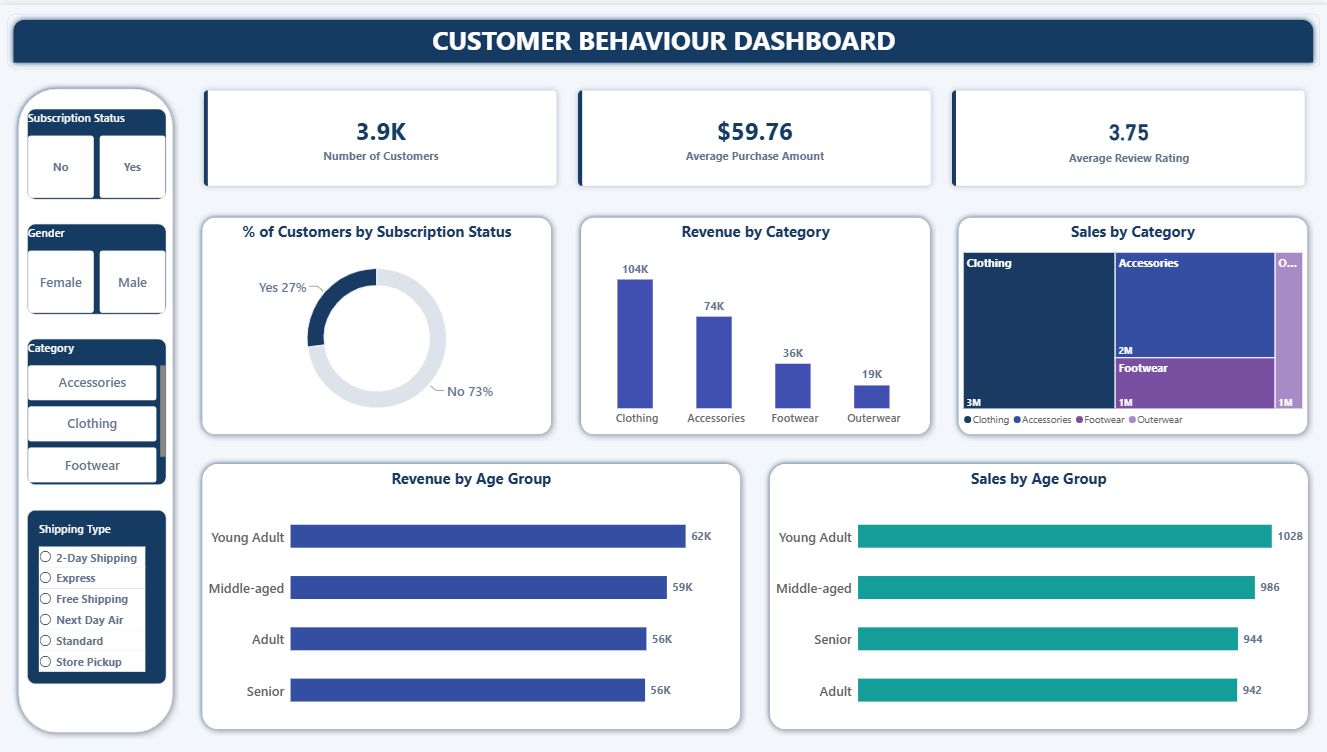

What the dashboard file says about the page in this screenshot:
{"tool":"powerbi","page":{"name":"Page 1","canvas":[1920,1080],"ordinal":0},"visuals":[{"type":"cardVisual","fields":{"Data":["public_customer.Number of Customers","public_customer.Average Purchase Amount","public_customer.Average Review Rating"]},"box":[288,112,1608,160],"z":0},{"type":"shape","box":[16,12,1888,80],"z":1000},{"type":"textbox","box":[15.7,25.5,1888.2,66.7],"z":2000},{"type":"shape","box":[288,296,520,330],"z":3000},{"type":"donutChart","title":"% of Customers by Subscription Status","fields":{"Category":["public_customer.subscription_status"],"Y":["CountNonNull(public_customer.customer_id)"]},"box":[288,296,520,330],"z":4000},{"type":"shape","box":[832,296,520,330],"z":5000},{"type":"shape","box":[1376,296,520,330],"z":6000},{"type":"clusteredColumnChart","title":"Revenue by Category","fields":{"Category":["public_customer.category"],"Y":["Sum(public_customer.purchase_amount)"]},"box":[832,296,520,330],"z":7000},{"type":"treemap","title":"Sales by Category","fields":{"Group":["public_customer.category"],"Values":["Sum(public_customer.customer_id)"]},"box":[1376,296,520,330],"z":8000},{"type":"shape","box":[24,112,240,944],"z":9000},{"type":"advancedSlicerVisual","title":"Subscription Status","fields":{"Values":["public_customer.subscription_status"]},"box":[44.5,148.9,200,130],"z":10000},{"type":"advancedSlicerVisual","title":"Gender","fields":{"Values":["public_customer.gender"]},"box":[44.5,314.8,200,130],"z":11000},{"type":"advancedSlicerVisual","title":"Category","fields":{"Values":["public_customer.category"]},"box":[44.5,480.7,200,210],"z":12000},{"type":"shape","box":[288,650,792,400],"z":13000},{"type":"listSlicer","title":"Shipping Type","fields":{"Values":["public_customer.shipping_type"]},"box":[44.5,726.7,200,250],"z":14000},{"type":"shape","box":[1104,650,792,400],"z":14500},{"type":"clusteredBarChart","title":"Revenue by Age Group","fields":{"Category":["public_customer.age_group"],"Y":["Sum(public_customer.purchase_amount)"]},"box":[288,650,792,400],"z":15000},{"type":"clusteredBarChart","title":"Sales by Age Group","fields":{"Category":["public_customer.age_group"],"Y":["CountNonNull(public_customer.customer_id)"]},"box":[1104,650,792,400],"z":17000}]}

Visuals, with their boxes in screenshot pixels (x1, y1, x2, y2), scaled from the page's 1920x1080 canvas onto the 1327x752 screenshot:
cardVisual - public_customer.Number of Customers x public_customer.Average Purchase Amount: BBox(199, 78, 1310, 189)
shape: BBox(11, 8, 1316, 64)
textbox: BBox(11, 18, 1316, 64)
shape: BBox(199, 206, 558, 436)
"% of Customers by Subscription Status" donutChart: BBox(199, 206, 558, 436)
shape: BBox(575, 206, 934, 436)
shape: BBox(951, 206, 1310, 436)
"Revenue by Category" clusteredColumnChart: BBox(575, 206, 934, 436)
"Sales by Category" treemap: BBox(951, 206, 1310, 436)
shape: BBox(17, 78, 182, 735)
"Subscription Status" advancedSlicerVisual: BBox(31, 104, 169, 194)
"Gender" advancedSlicerVisual: BBox(31, 219, 169, 310)
"Category" advancedSlicerVisual: BBox(31, 335, 169, 481)
shape: BBox(199, 453, 746, 731)
"Shipping Type" listSlicer: BBox(31, 506, 169, 680)
shape: BBox(763, 453, 1310, 731)
"Revenue by Age Group" clusteredBarChart: BBox(199, 453, 746, 731)
"Sales by Age Group" clusteredBarChart: BBox(763, 453, 1310, 731)
